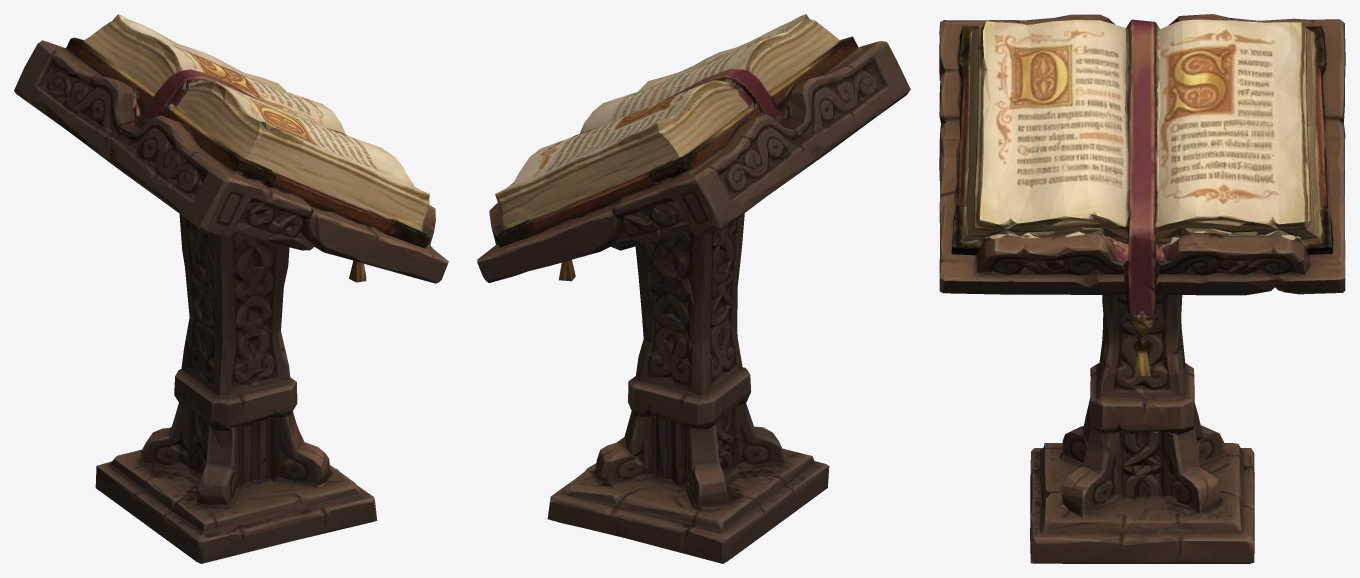
File: prayer_book_stand.glb
3 renders of one model, left to right at view 1: azimuth 30°, elevation 25°; view 2: azimuth 150°, elevation 25°; view 3: azimuth 270°, elevation 25°, orthographic. The views are drawn at different scales.
Parts seen in each view (by area): view 1: tripo_node_68f8aeed-7c69-4a8d-bde5-3d4bf7f4d571.001; view 2: tripo_node_68f8aeed-7c69-4a8d-bde5-3d4bf7f4d571.001; view 3: tripo_node_68f8aeed-7c69-4a8d-bde5-3d4bf7f4d571.001.
Boxes of the visible parts, <box> form: tripo_node_68f8aeed-7c69-4a8d-bde5-3d4bf7f4d571.001: <box>14,14,448,563</box>; tripo_node_68f8aeed-7c69-4a8d-bde5-3d4bf7f4d571.001: <box>477,14,910,563</box>; tripo_node_68f8aeed-7c69-4a8d-bde5-3d4bf7f4d571.001: <box>939,14,1345,563</box>.
Size of the model in its own units: 0.6023 by 0.9972 by 0.768.
1 material, 1 textured.
